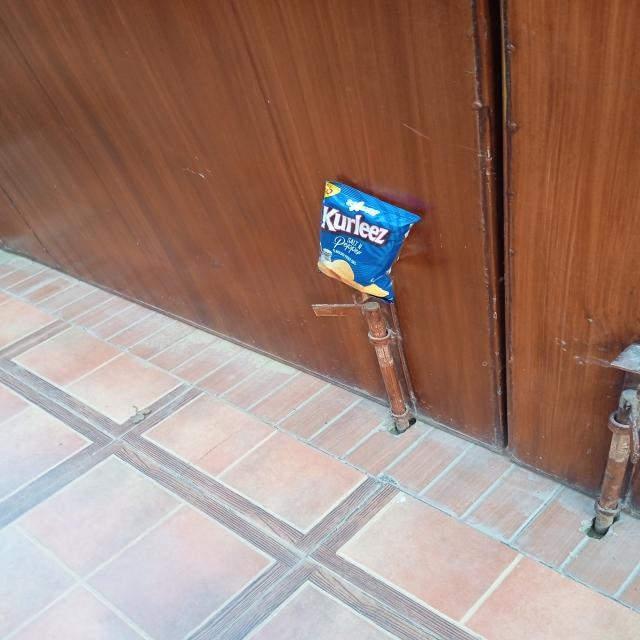Plastic: (306, 178, 428, 312)
